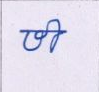i_matra: (46, 18, 59, 52)
